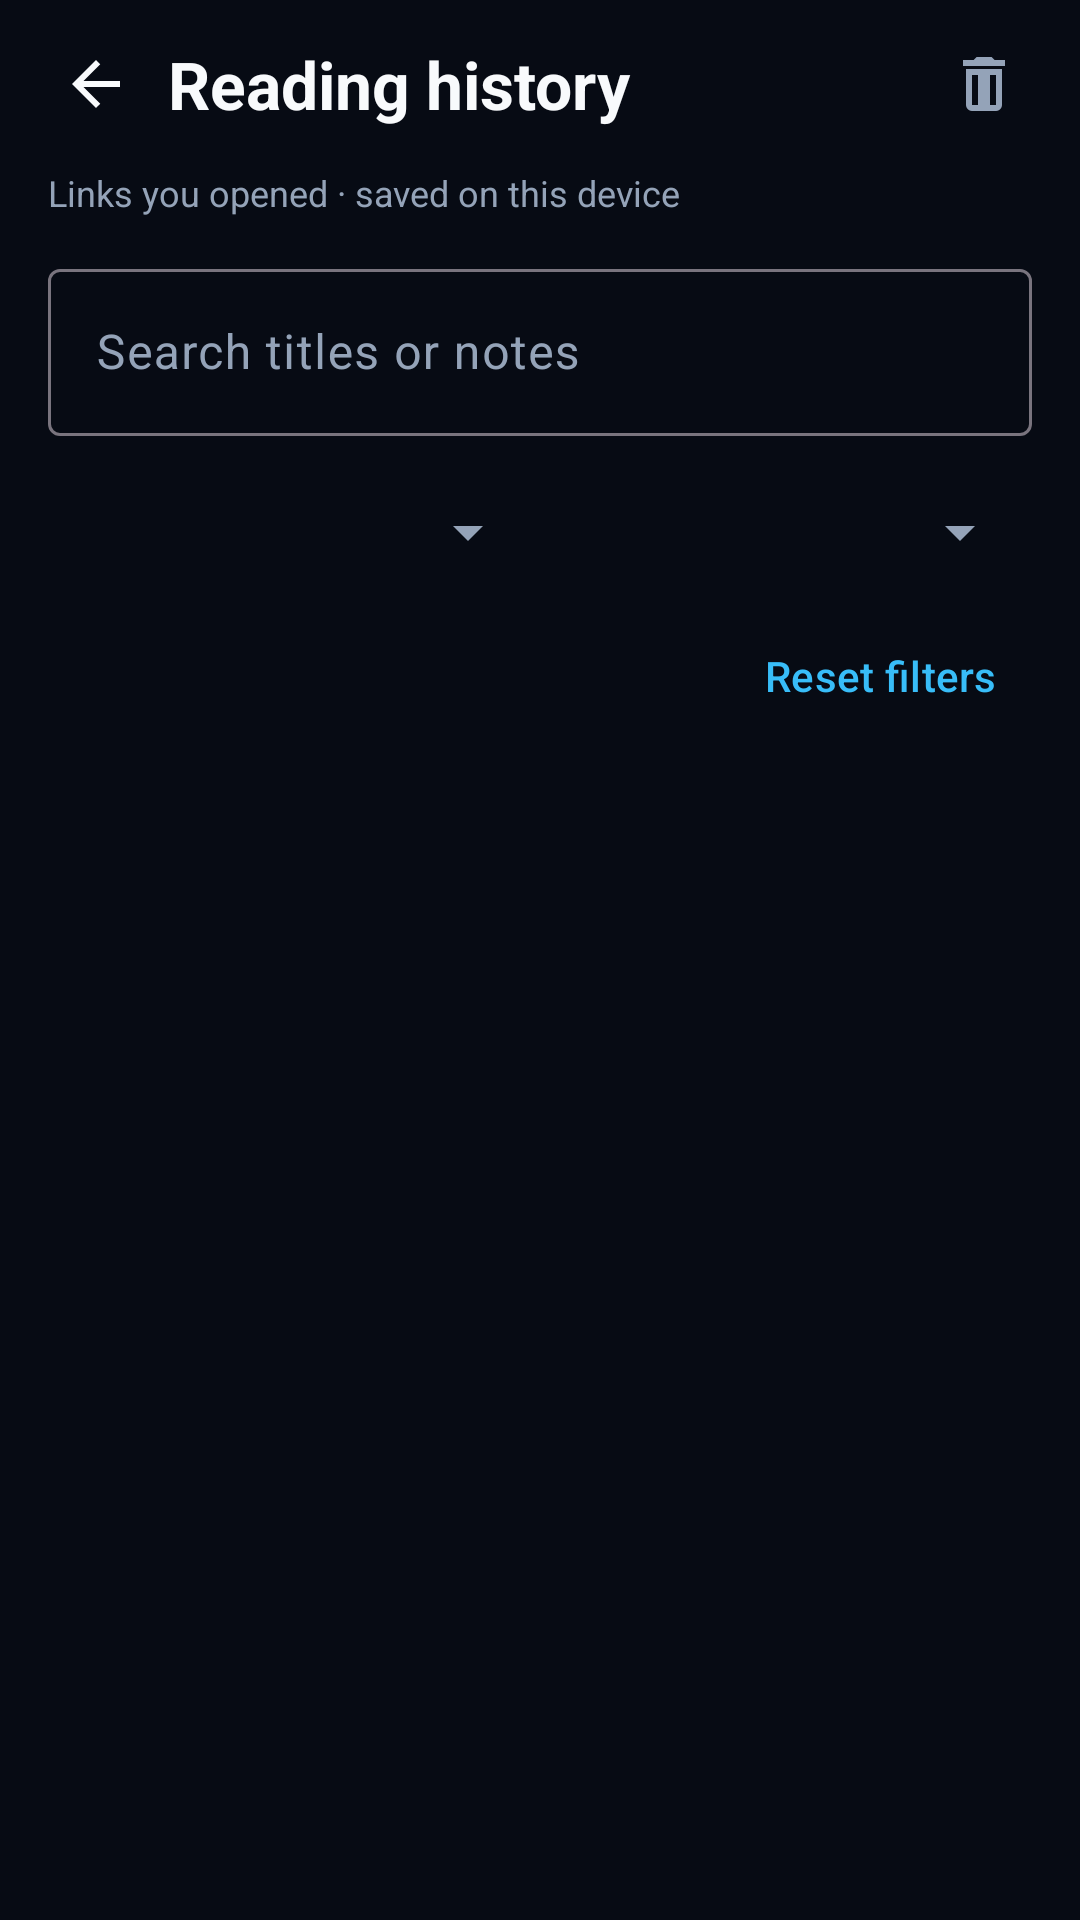

Icon bounding boxes for this 1080*1920 phone screenshot, format [x1=x1, y1=y1, x2=x2, y2=y2]:
Back: [x1=72, y1=60, x2=120, y2=108]
Clear all: [x1=963, y1=57, x2=1005, y2=111]
